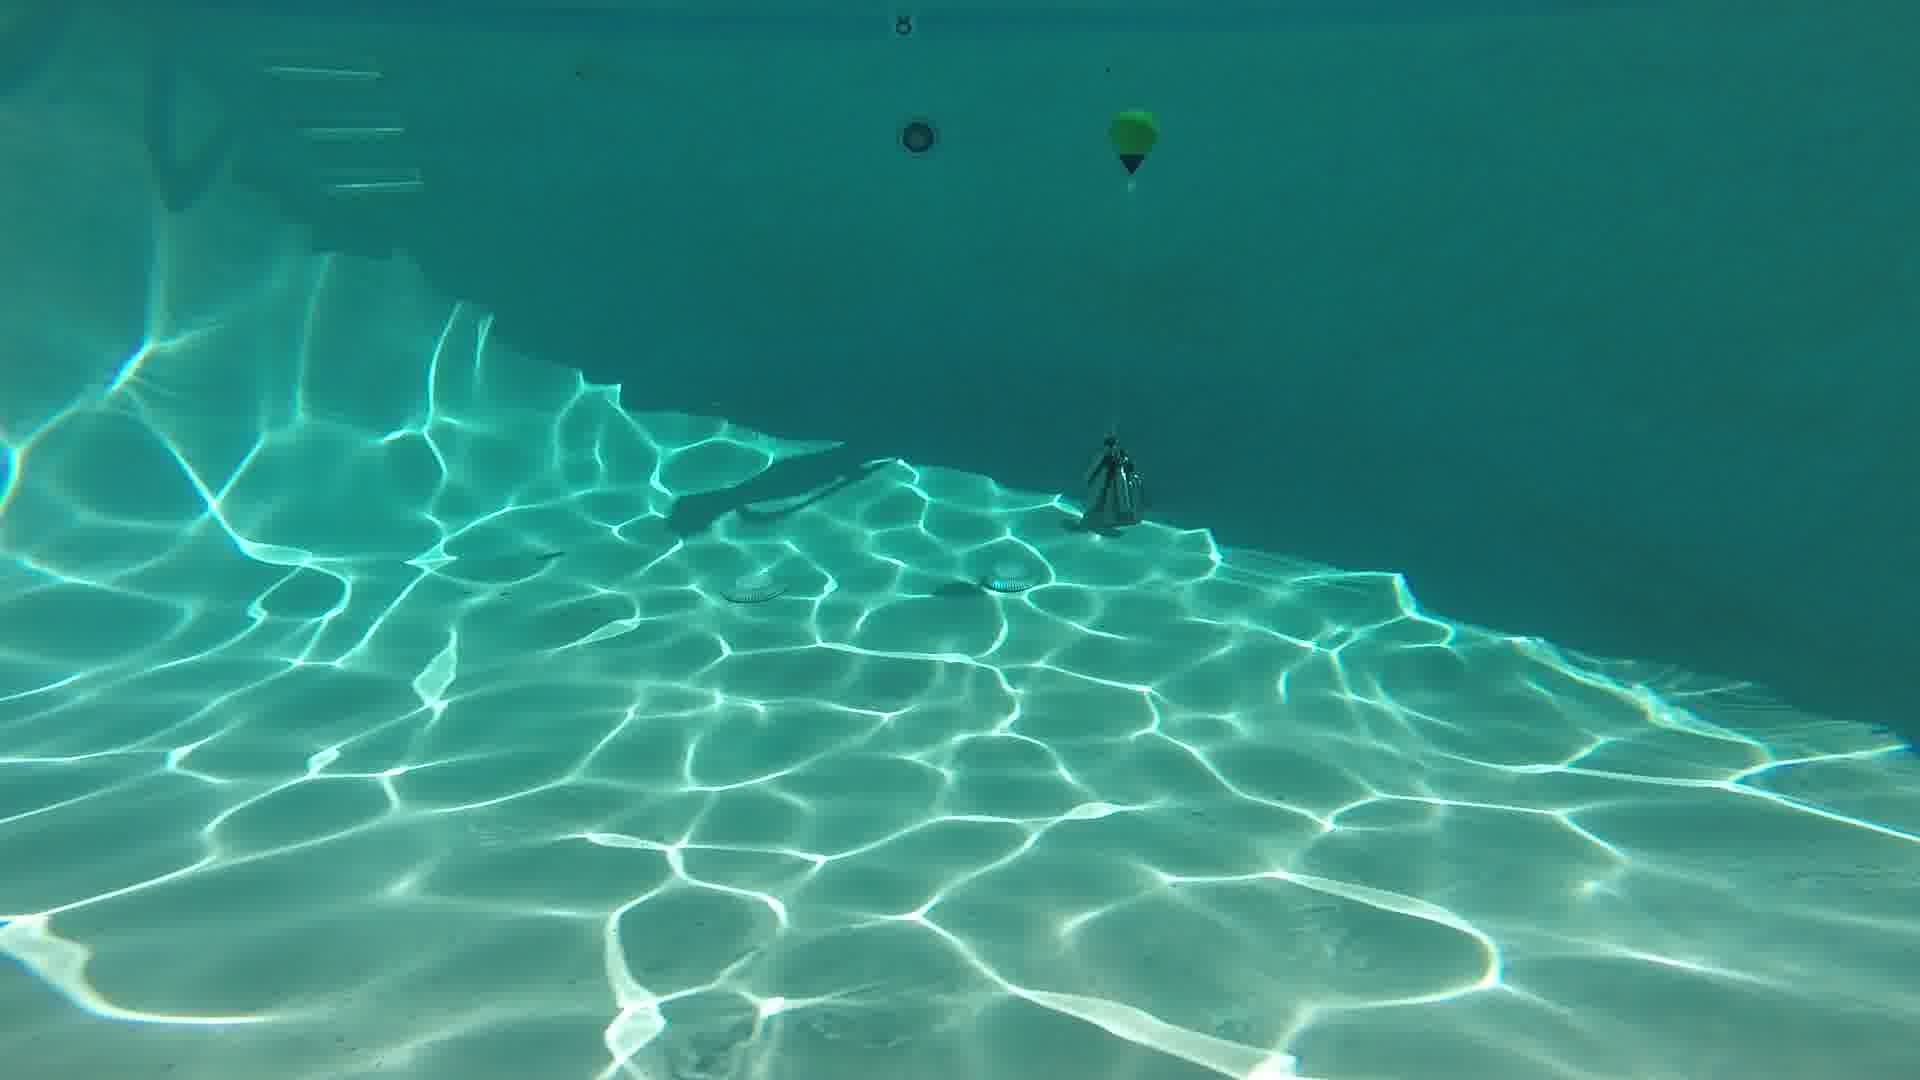yellow_buoy: (1108, 109, 1156, 177)
